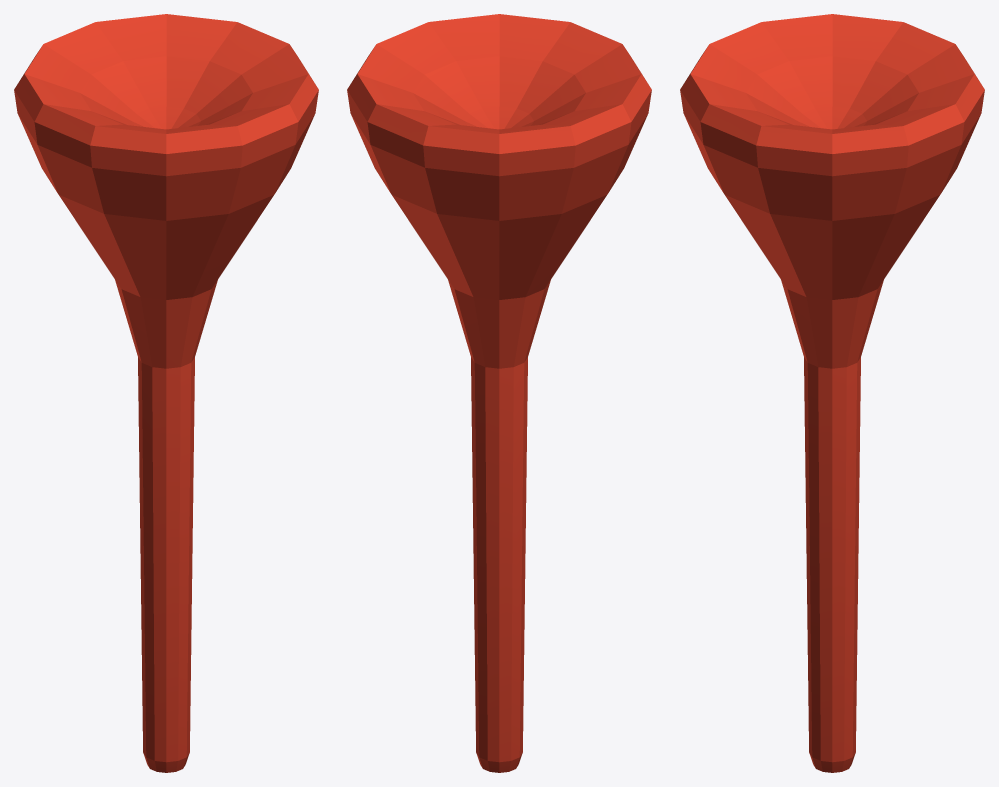
The model's file is tee_marker_tee_red.glb.
3 views of the same model, side by side, from view 1: azimuth 30°, elevation 25°; view 2: azimuth 150°, elevation 25°; view 3: azimuth 270°, elevation 25° (orthographic).
Parts seen in each view (by area): view 1: Body; view 2: Body; view 3: Body.
Part boxes in pixels (bbox=[...]): Body: bbox=[14, 14, 318, 772]; Body: bbox=[347, 14, 651, 772]; Body: bbox=[680, 14, 984, 772].
Size of the model in its own units: 0.176 by 0.44 by 0.176.
Materials: 1 (1 with a texture image).
